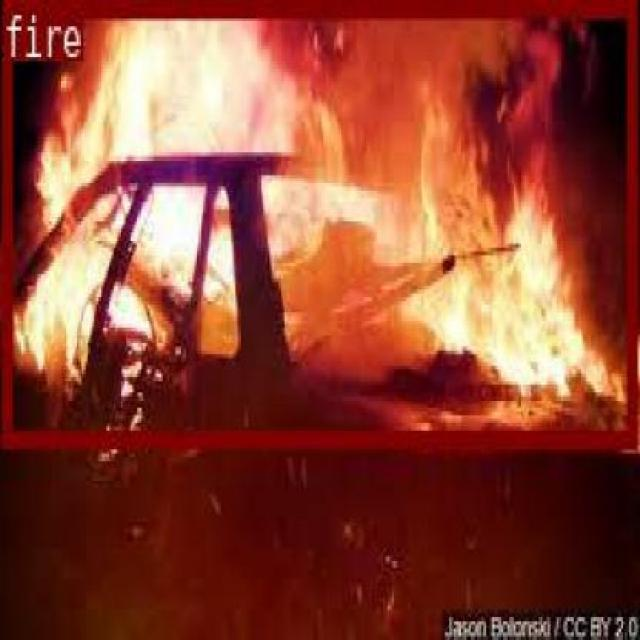Fire: (1, 0, 634, 442)
